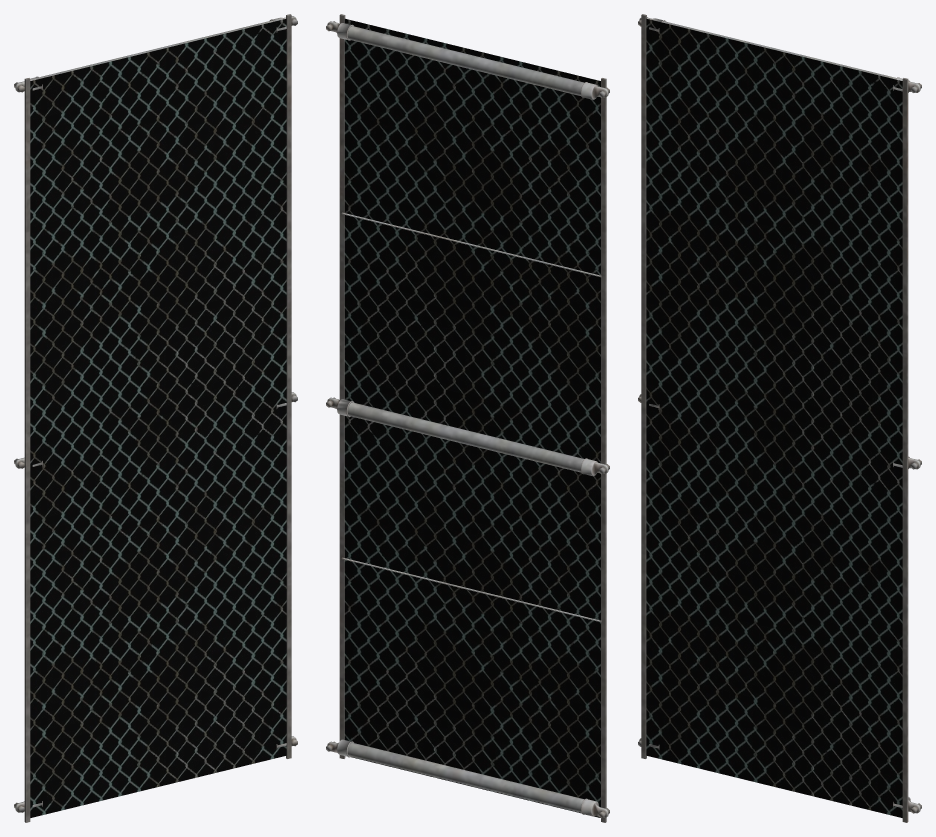
Rendered from fence_panel.glb.
3 renders of one model, left to right at view 1: azimuth 30°, elevation 25°; view 2: azimuth 150°, elevation 25°; view 3: azimuth 330°, elevation 25°, orthographic.
Parts seen in each view (by area): view 1: modular_chainlink_fence; view 2: modular_chainlink_fence; view 3: modular_chainlink_fence.
Boxes of the visible parts, bbox=[...] form: modular_chainlink_fence: bbox=[14, 14, 297, 822]; modular_chainlink_fence: bbox=[326, 14, 609, 822]; modular_chainlink_fence: bbox=[638, 14, 921, 822].
Bounding box in the file's own units: 0.9341 × 2.37 × 0.0486.
2 materials, 2 textured.
